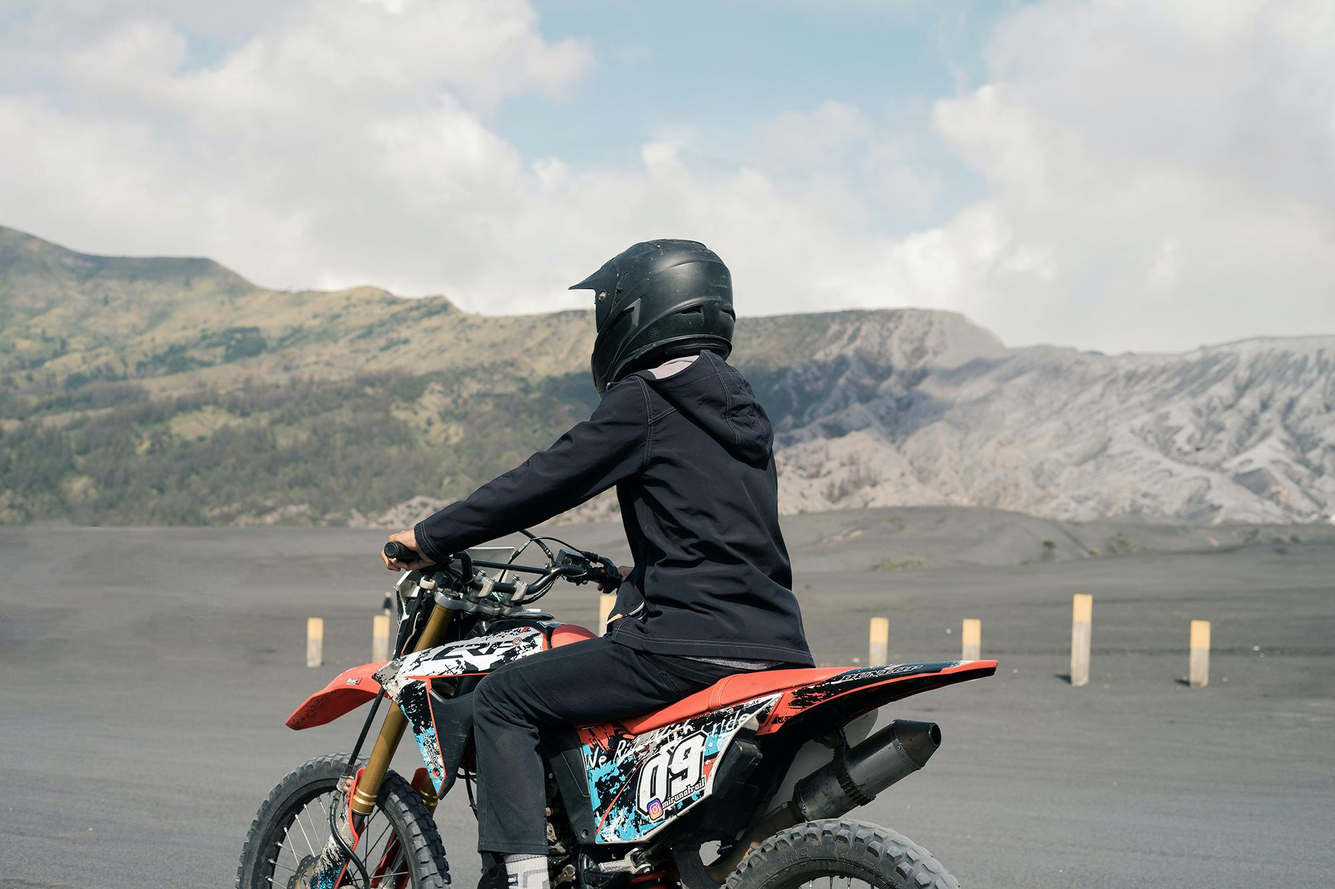helmet: (566, 237, 737, 418)
